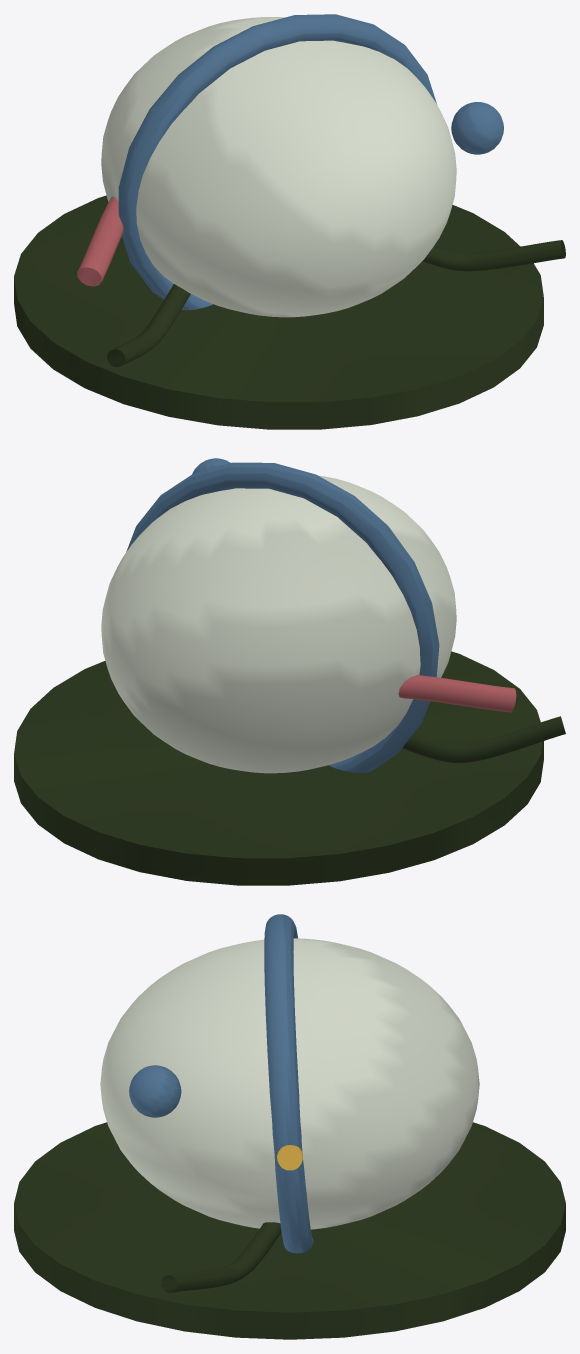
Rendered from 0428_微生物图鉴_草履虫.glb.
The picture shows the model from 3 angles, top to bottom: view 1: azimuth 30°, elevation 25°; view 2: azimuth 150°, elevation 25°; view 3: azimuth 270°, elevation 25°; orthographic projection.
Visible parts, largest first — view 1: card_0428; view 2: card_0428; view 3: card_0428.
Boxes of the visible parts, x1,y1,x2,y2 form: card_0428: [14, 14, 565, 429]; card_0428: [14, 458, 565, 885]; card_0428: [14, 914, 565, 1339].
Bounding box in the file's own units: 1.56 × 1 × 1.65.
